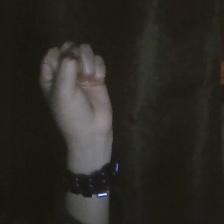S: (32, 34, 132, 148)
